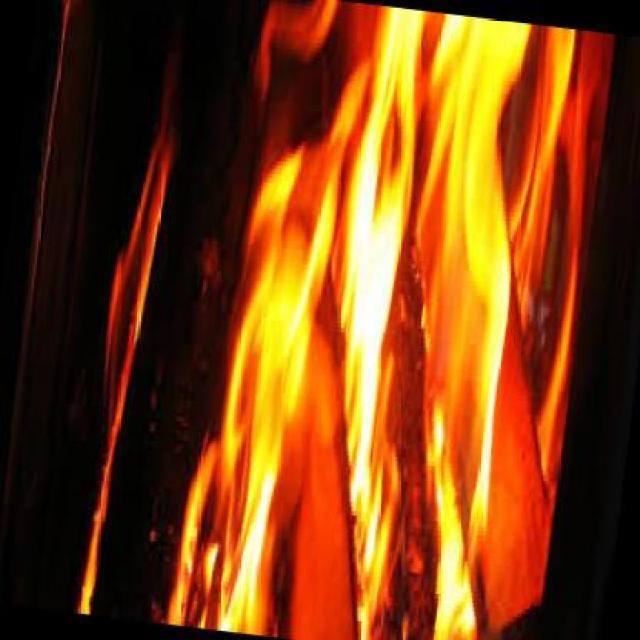Fire: (42, 4, 595, 638)
